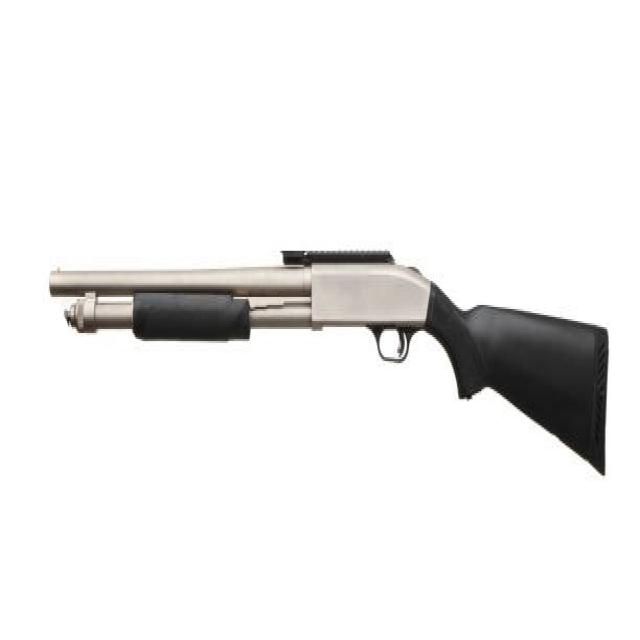rifle: (46, 243, 613, 483)
